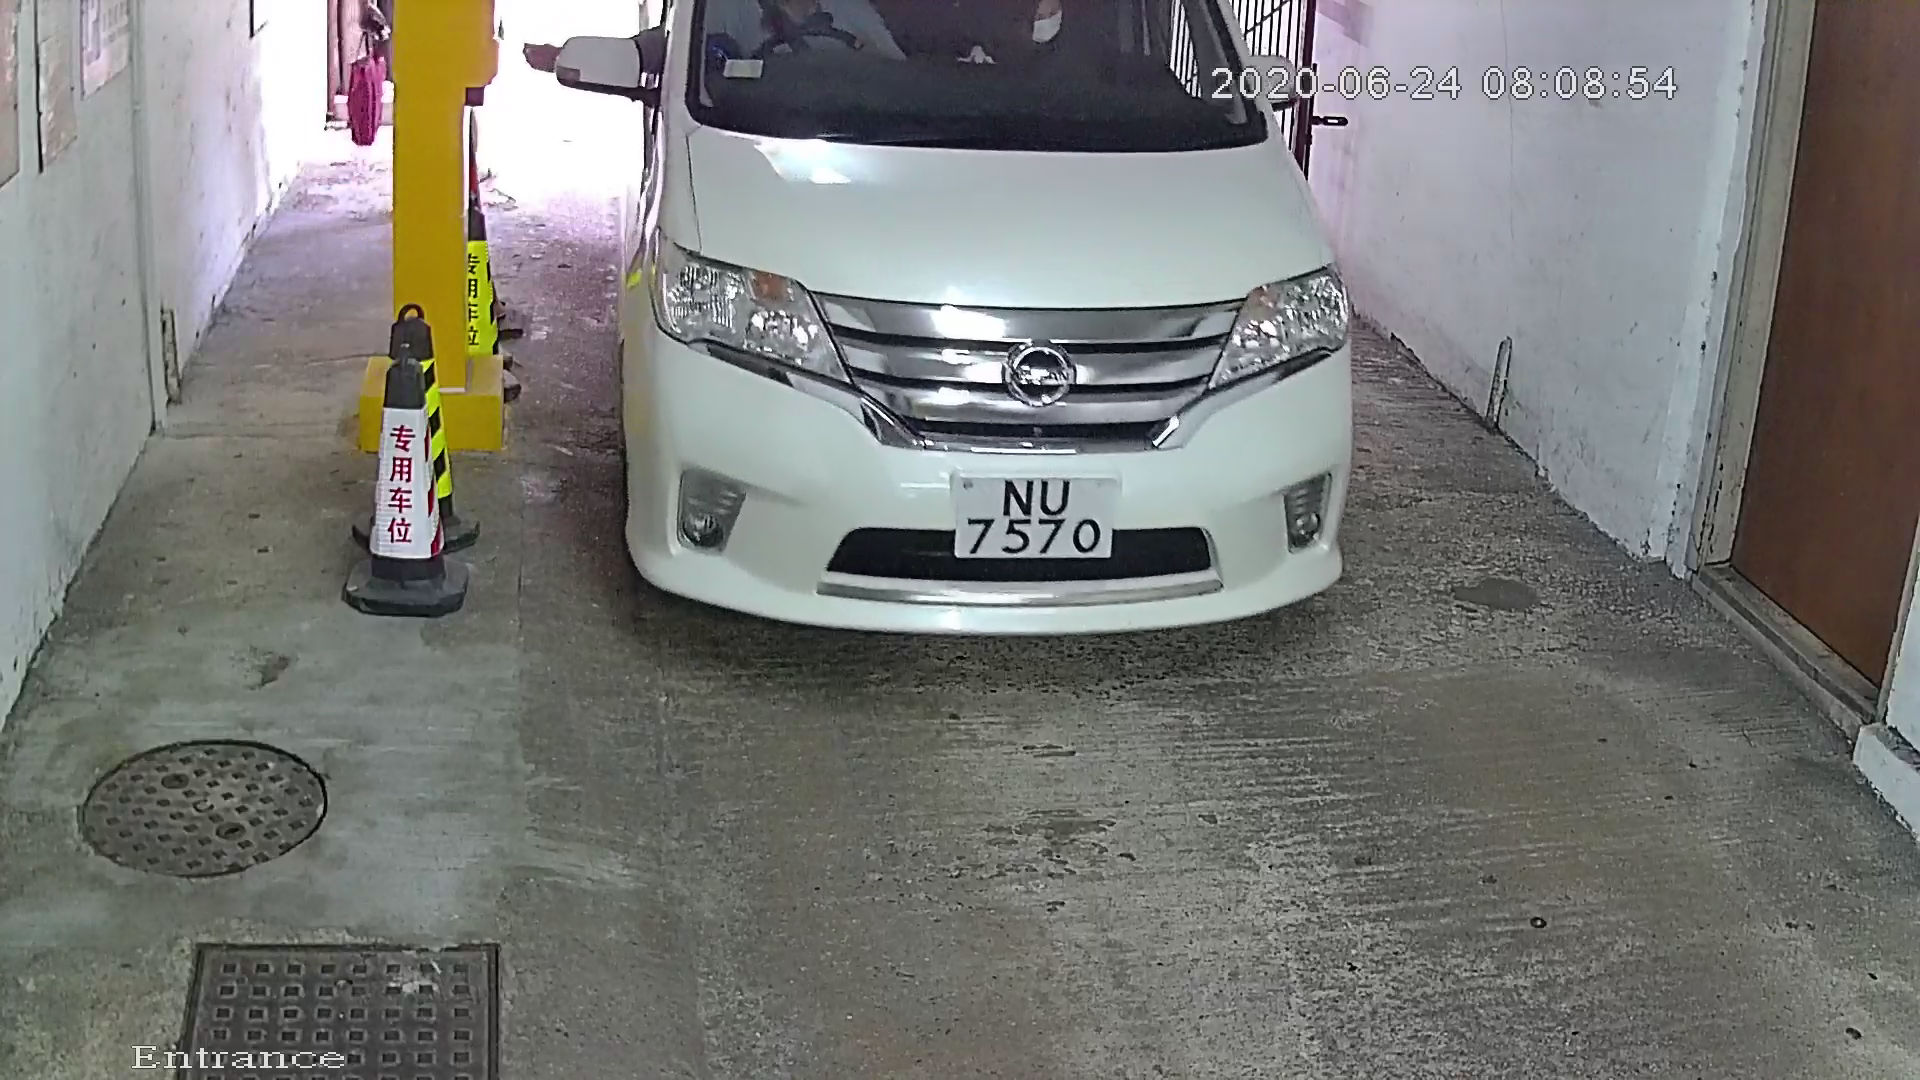privatecar: (530, 1, 1400, 684)
